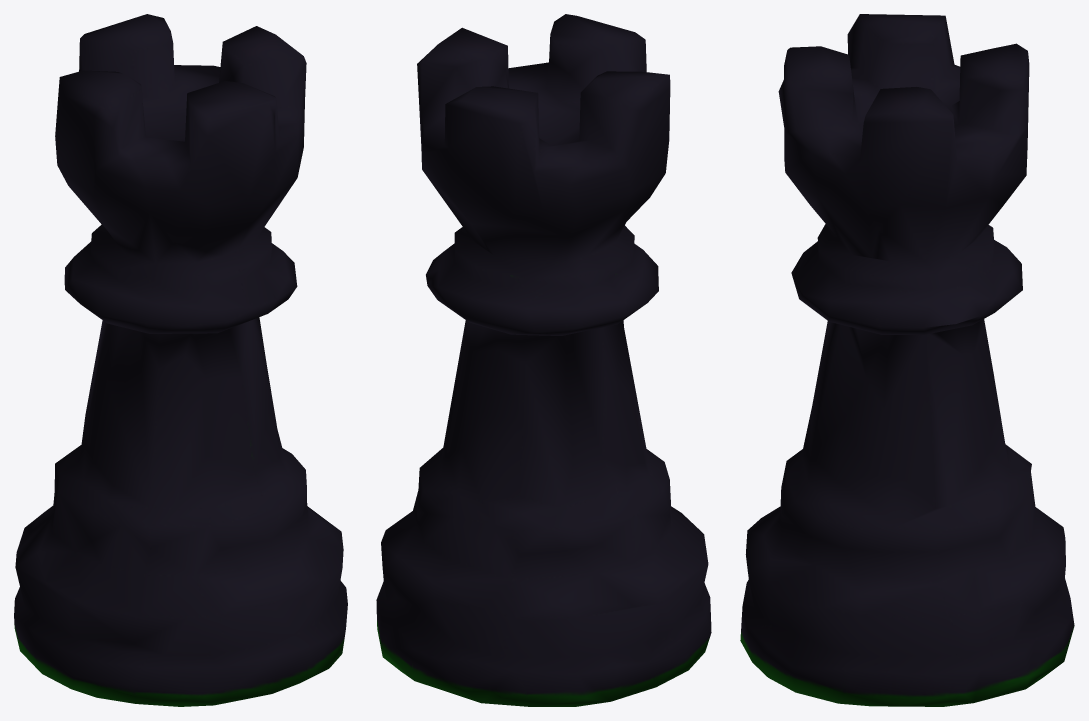
The model's file is chess-rook-black.glb.
The picture shows the model from 3 angles, left to right: view 1: azimuth 30°, elevation 25°; view 2: azimuth 150°, elevation 25°; view 3: azimuth 270°, elevation 25°; orthographic projection.
Visible parts, largest first — view 1: geometry_0.001; view 2: geometry_0.001; view 3: geometry_0.001.
Part boxes in pixels (bbox=[...]): geometry_0.001: bbox=[14, 14, 347, 706]; geometry_0.001: bbox=[376, 14, 711, 706]; geometry_0.001: bbox=[740, 14, 1074, 706].
Size of the model in its own units: 0.5221 by 1 by 0.5229.
1 material, 1 textured.
